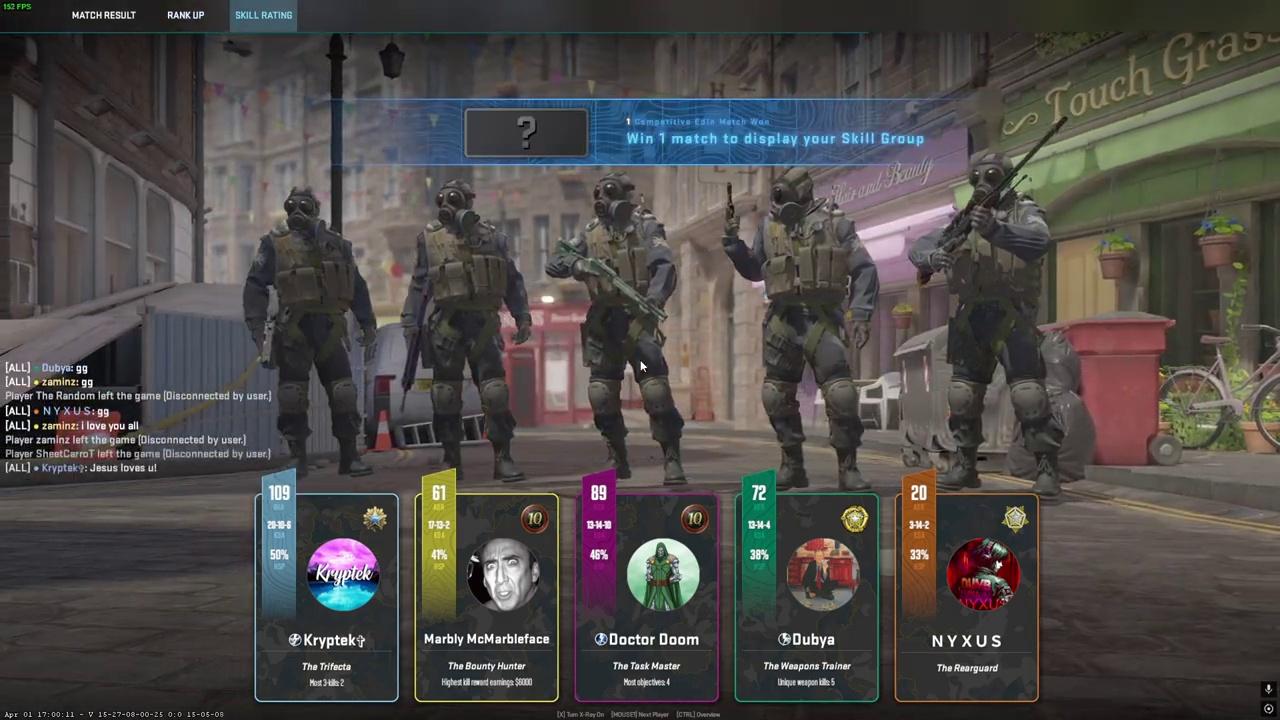CT: (935, 153, 1065, 494), (745, 167, 867, 489), (572, 172, 686, 487), (415, 180, 522, 481), (258, 186, 366, 481)
